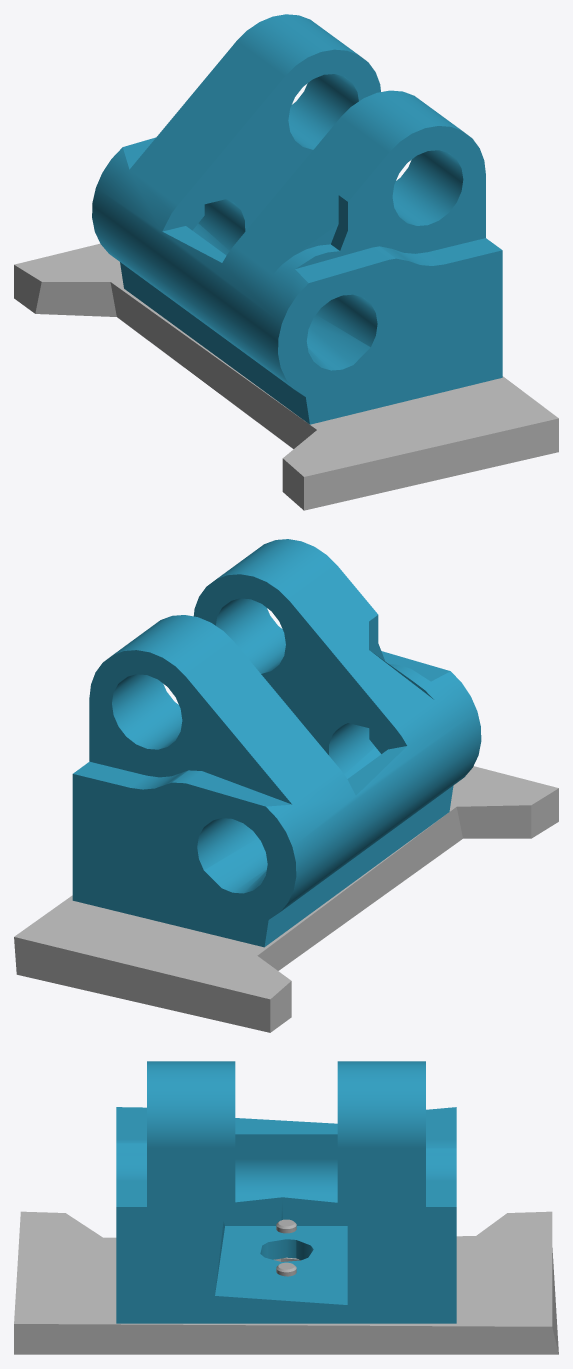
The model's file is lifter_base_link.dae.
The picture shows the model from 3 angles, top to bottom: view 1: azimuth 30°, elevation 25°; view 2: azimuth 150°, elevation 25°; view 3: azimuth 270°, elevation 25°; orthographic projection. The views are drawn at different scales.
Visible parts, largest first — view 1: FBXASC227FBXASC130FBXASC189FBXASC227FBXASC131FBXASC170FBXASC (×2); view 2: FBXASC227FBXASC130FBXASC189FBXASC227FBXASC131FBXASC170FBXASC (×2); view 3: FBXASC227FBXASC130FBXASC189FBXASC227FBXASC131FBXASC170FBXASC (×2).
Boxes of the visible parts, x1,y1,x2,y2 form: FBXASC227FBXASC130FBXASC189FBXASC227FBXASC131FBXASC170FBXASC (×2): (14, 14, 558, 510); FBXASC227FBXASC130FBXASC189FBXASC227FBXASC131FBXASC170FBXASC (×2): (14, 539, 558, 1032); FBXASC227FBXASC130FBXASC189FBXASC227FBXASC131FBXASC170FBXASC (×2): (14, 1061, 558, 1354).
Size of the model in its own units: 0.08 by 0.16 by 0.0848.
